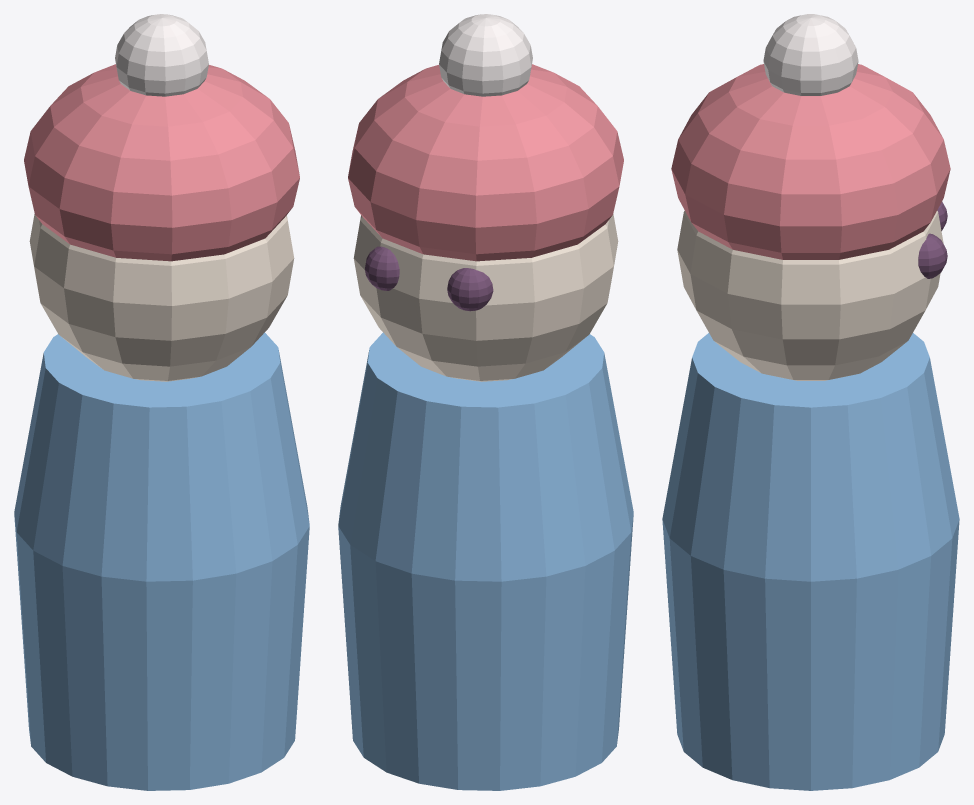
File: char_skier.glb
The picture shows the model from 3 angles, left to right: view 1: azimuth 30°, elevation 25°; view 2: azimuth 150°, elevation 25°; view 3: azimuth 270°, elevation 25°; orthographic projection.
Visible parts, largest first — view 1: Body, Beanie, Head, BeaniePom; view 2: Body, Beanie, Head, BeaniePom, EyeL, EyeR; view 3: Body, Beanie, Head, BeaniePom, EyeR.
Part boxes in pixels (<box>): Body: <box>14,332,309,790</box>; Beanie: <box>24,64,299,261</box>; Head: <box>29,214,294,381</box>; BeaniePom: <box>115,14,208,96</box>; Body: <box>338,332,633,790</box>; Beanie: <box>348,64,623,261</box>; Head: <box>353,214,618,381</box>; BeaniePom: <box>439,14,532,96</box>; EyeL: <box>447,268,493,311</box>; EyeR: <box>365,246,399,290</box>; Body: <box>662,333,959,790</box>; Beanie: <box>671,64,950,259</box>; Head: <box>677,211,943,380</box>; BeaniePom: <box>763,14,858,95</box>; EyeR: <box>918,233,947,278</box>.
Size of the model in its own units: 0.1 by 0.266 by 0.1.
